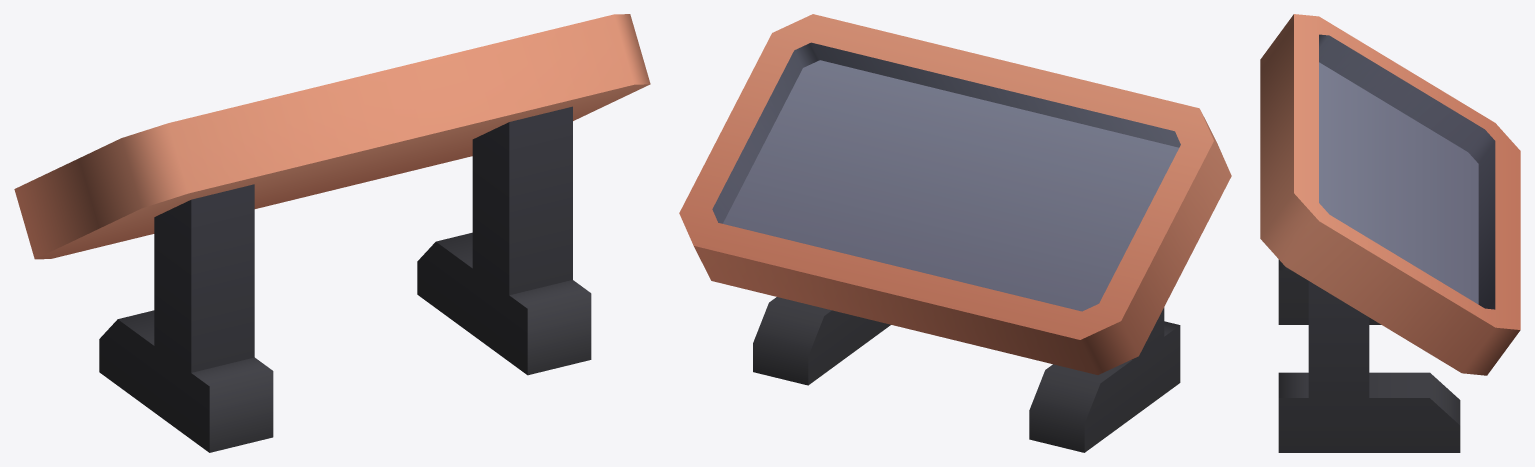
Rendered from screen-flat.obj.
The picture shows the model from 3 angles, left to right: view 1: azimuth 30°, elevation 25°; view 2: azimuth 150°, elevation 25°; view 3: azimuth 270°, elevation 25°; orthographic projection. The views are drawn at different scales.
Visible parts, largest first — view 1: screen-flat; view 2: screen-flat; view 3: screen-flat.
Part boxes in pixels (x1,y1,x2,y2): screen-flat: (14,14,650,452); screen-flat: (679,14,1231,452); screen-flat: (1260,14,1520,452).
Size of the model in its own units: 1.2 by 0.7453 by 0.6448.
